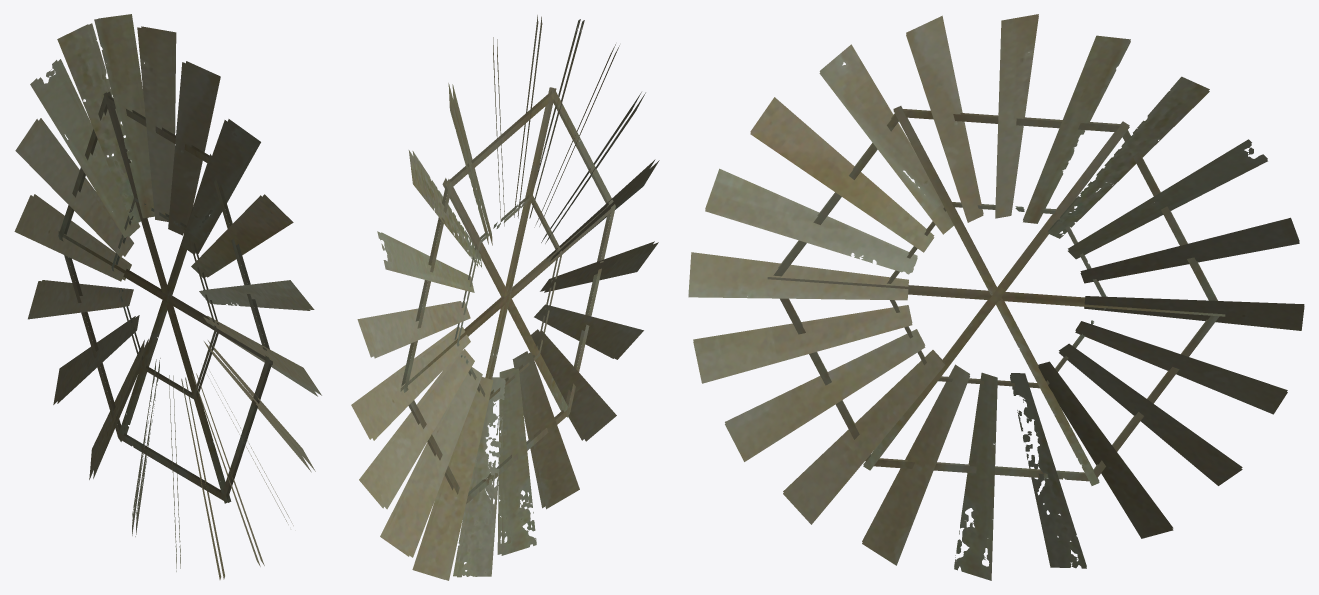
File: windpump-rotor.glb
3 views of the same model, side by side, from view 1: azimuth 30°, elevation 25°; view 2: azimuth 150°, elevation 25°; view 3: azimuth 270°, elevation 25° (orthographic). The views are drawn at different scales.
Parts seen in each view (by area): view 1: stk_generic_ironA.png__; view 2: stk_generic_ironA.png__; view 3: stk_generic_ironA.png__.
Part boxes in pixels (x1,y1,x2,y2): stk_generic_ironA.png__: (14, 14, 321, 579); stk_generic_ironA.png__: (351, 15, 659, 580); stk_generic_ironA.png__: (688, 14, 1304, 580).
Bounding box in the file's own units: 0.2799 × 6.48 × 6.48.
1 material, 1 textured.
